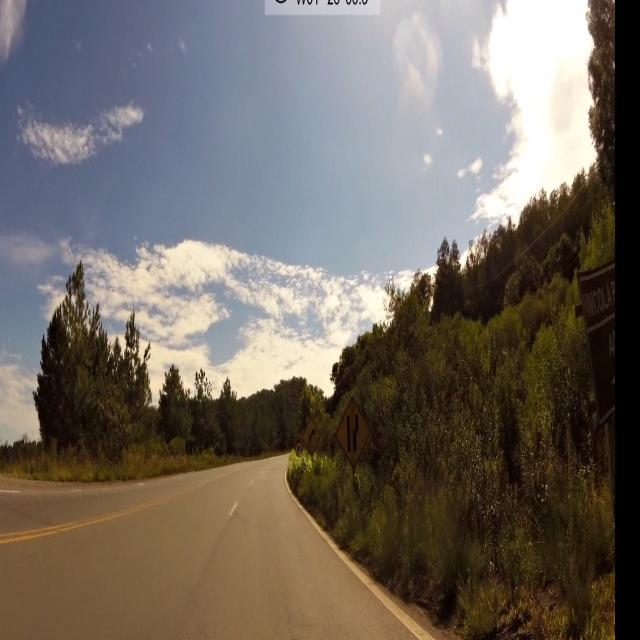A-21e: (338, 401, 368, 473)
